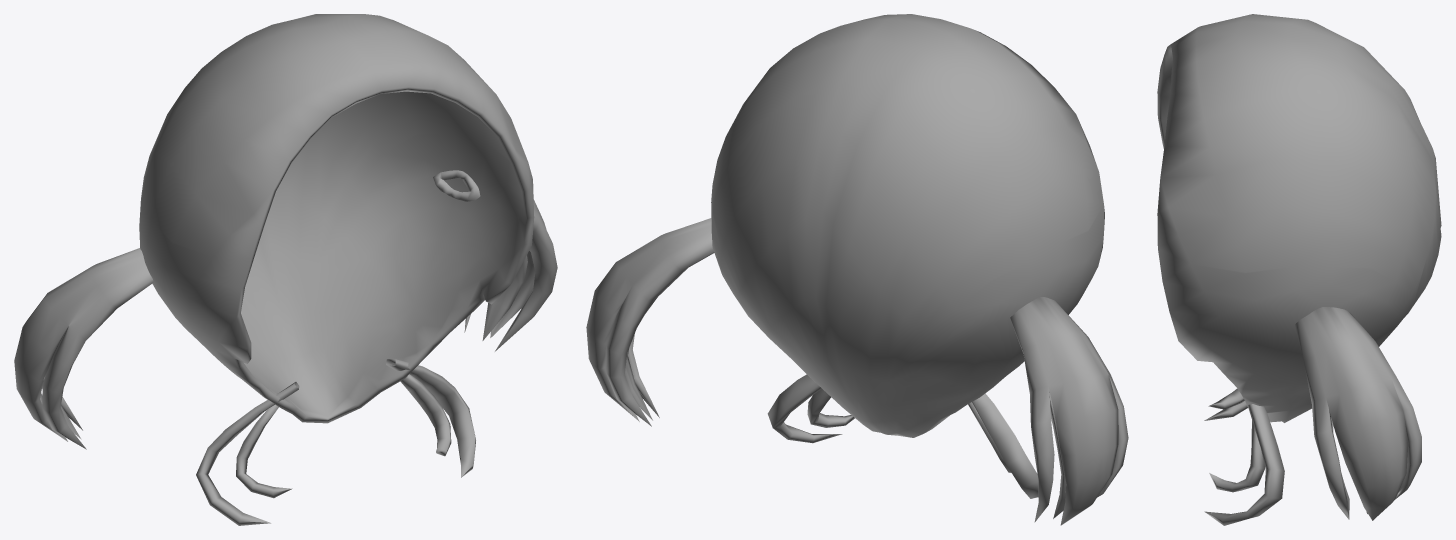
The model's file is HairBack10.fbx.
3 views of the same model, side by side, from view 1: azimuth 30°, elevation 25°; view 2: azimuth 150°, elevation 25°; view 3: azimuth 270°, elevation 25° (orthographic). The views are drawn at different scales.
Visible parts, largest first — view 1: HairBack4_mesh; view 2: HairBack4_mesh; view 3: HairBack4_mesh.
Part boxes in pixels (bbox=[...]): HairBack4_mesh: bbox=[14, 14, 557, 525]; HairBack4_mesh: bbox=[586, 14, 1128, 525]; HairBack4_mesh: bbox=[1157, 14, 1441, 525].
Bounding box in the file's own units: 35.19 × 29.32 × 17.29.
Materials: 3 (3 with a texture image).
